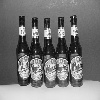beer: (30, 17, 44, 87)
